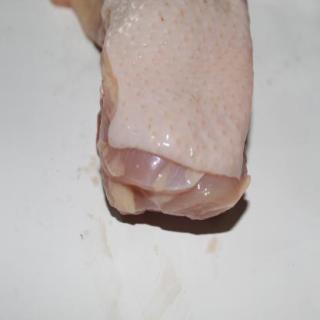Ayam: (100, 1, 254, 226)
